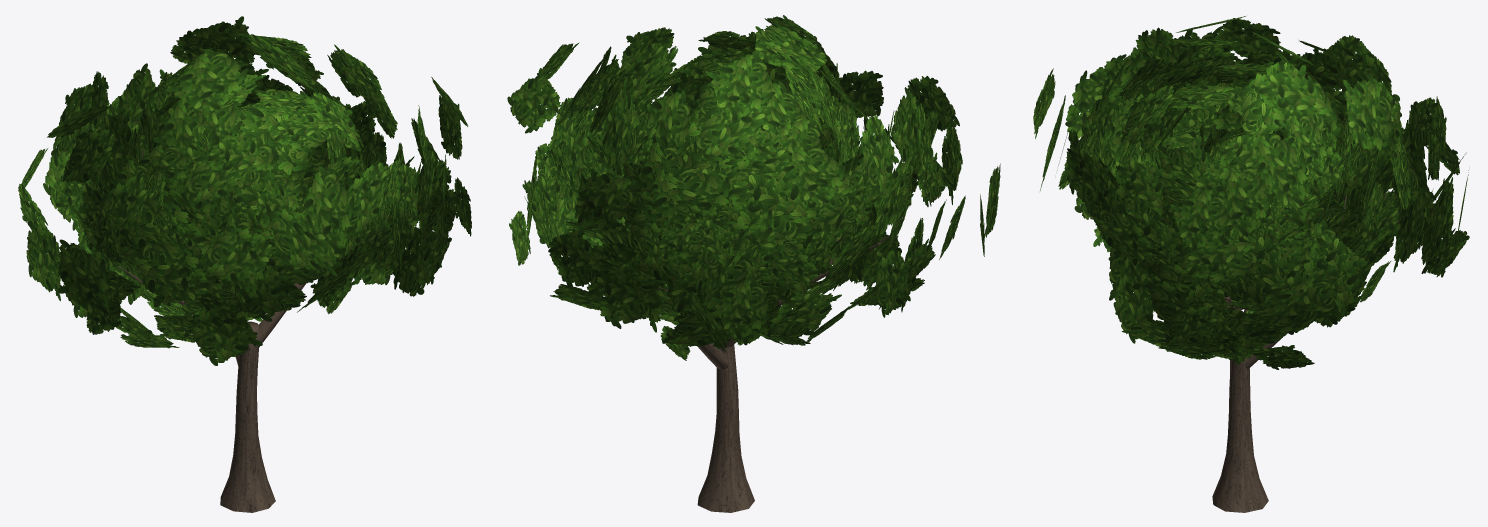
Rendered from tree_maple.glb.
3 renders of one model, left to right at view 1: azimuth 30°, elevation 25°; view 2: azimuth 150°, elevation 25°; view 3: azimuth 270°, elevation 25°, orthographic. The views are drawn at different scales.
Visible parts, largest first — view 1: tree_maple; view 2: tree_maple; view 3: tree_maple.
Boxes of the visible parts, bbox=[...] form: tree_maple: bbox=[18, 16, 471, 512]; tree_maple: bbox=[507, 15, 1000, 512]; tree_maple: bbox=[1033, 16, 1469, 512].
Bounding box in the file's own units: 9.6 × 9.96 × 8.49.
Materials: 2 (2 with a texture image).
